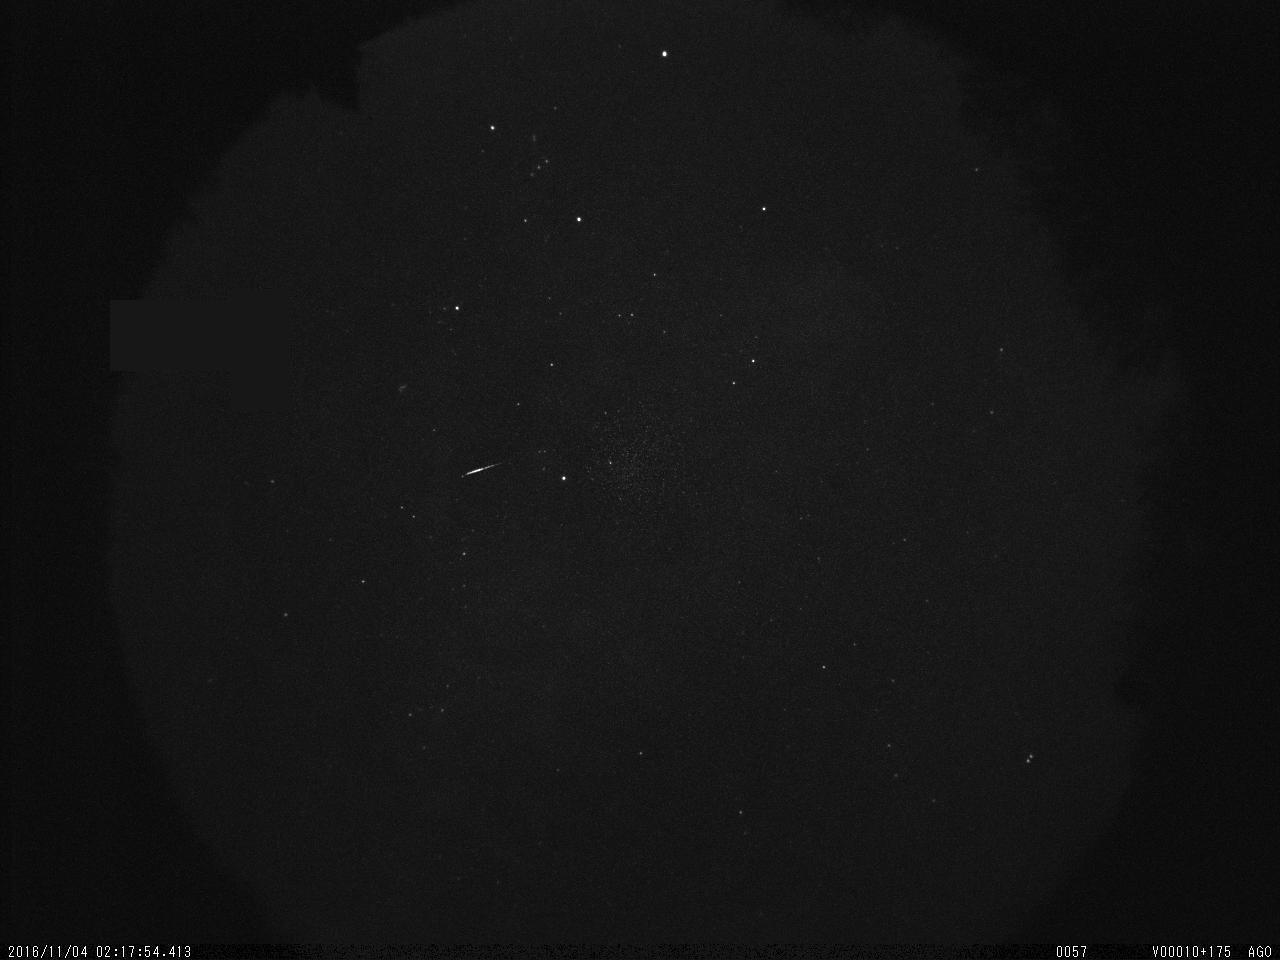Meteor: (460, 459, 500, 477)
